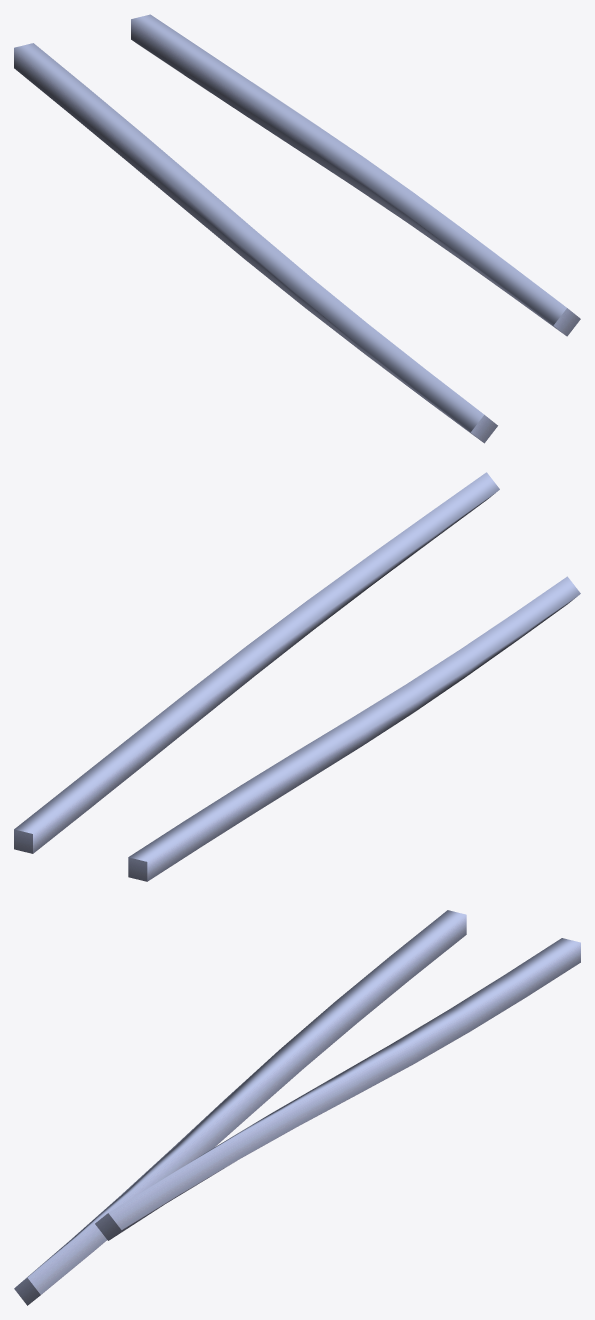
Rendered from kenney-train-railroad-rail-straight-skew-right.glb.
3 renders of one model, top to bottom at view 1: azimuth 30°, elevation 25°; view 2: azimuth 150°, elevation 25°; view 3: azimuth 330°, elevation 25°, orthographic. The views are drawn at different scales.
Parts seen in each view (by area): view 1: railroad-rail-straight-skew-right; view 2: railroad-rail-straight-skew-right; view 3: railroad-rail-straight-skew-right.
Part boxes in pixels (bbox=[...]): railroad-rail-straight-skew-right: bbox=[14, 14, 580, 443]; railroad-rail-straight-skew-right: bbox=[14, 472, 580, 881]; railroad-rail-straight-skew-right: bbox=[14, 910, 580, 1305].
Size of the model in its own units: 0.7139 by 0.5654 by 4.
1 material, 1 textured.
